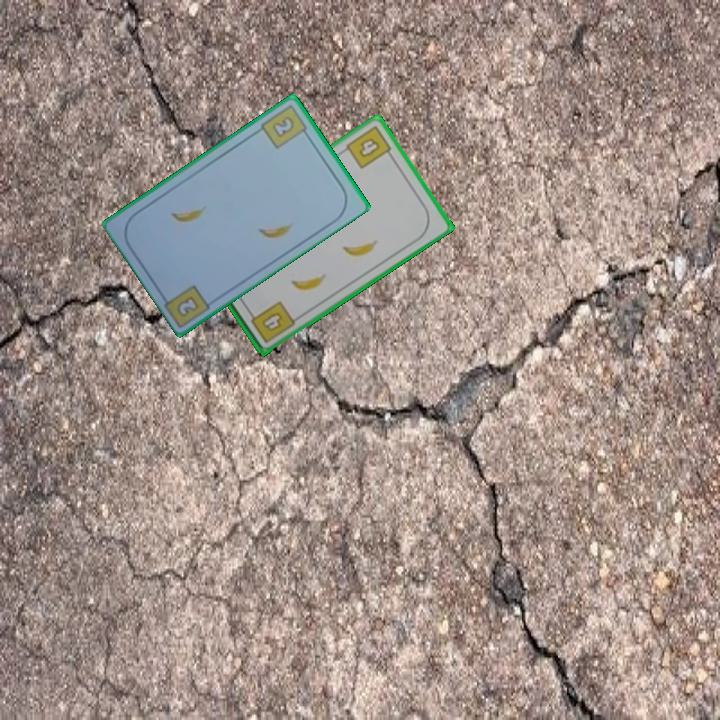2b: (257, 101, 313, 152), (173, 292, 202, 320)
4b: (342, 122, 397, 172), (245, 297, 298, 346)
